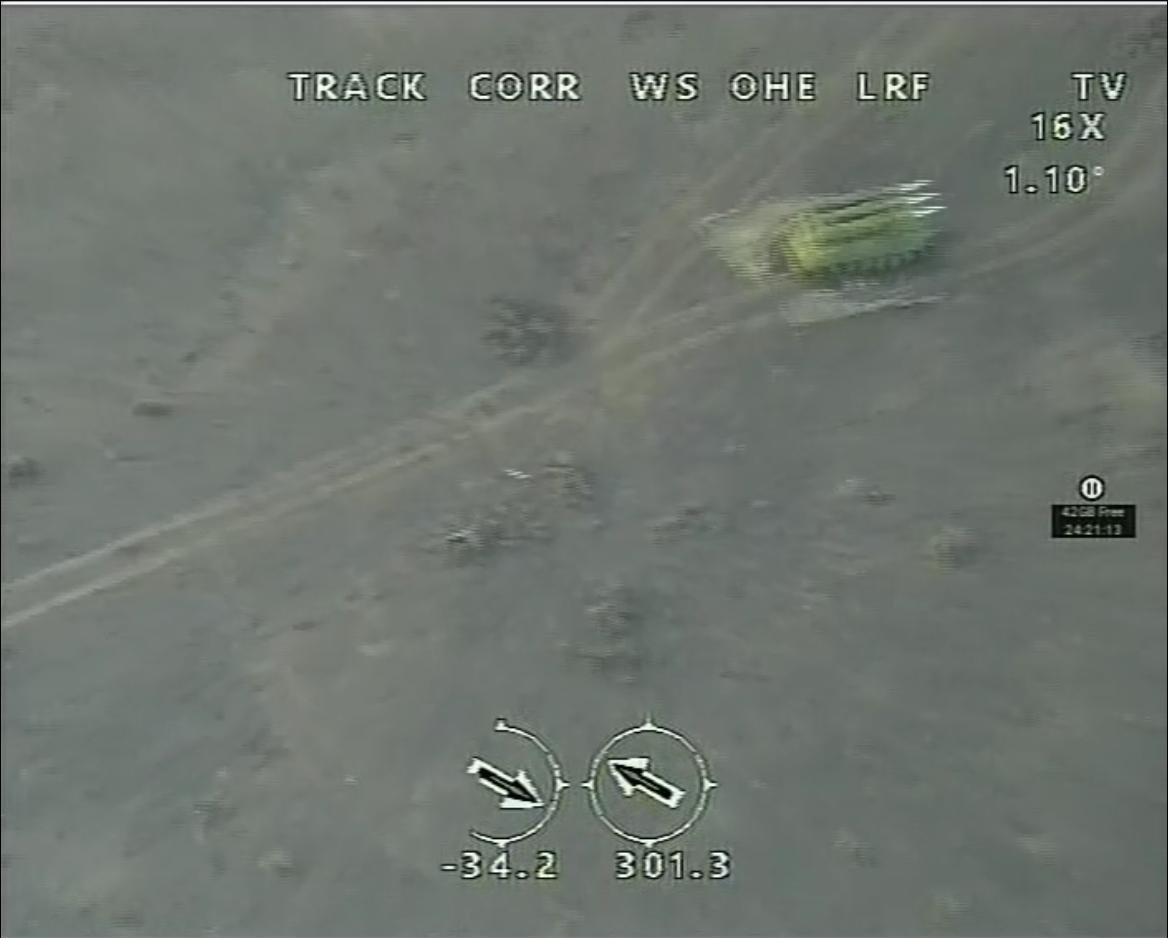armored_car: (770, 168, 956, 284)
